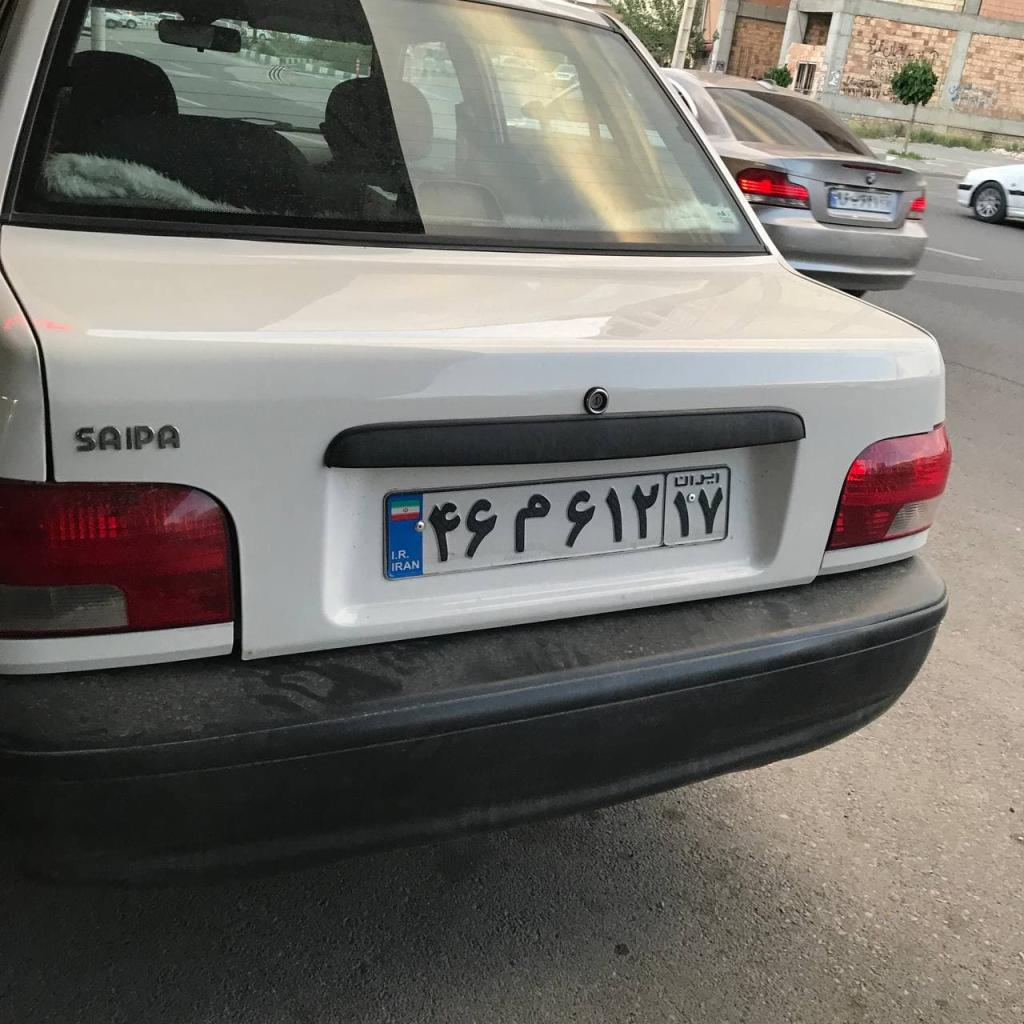Plates: (389, 466, 729, 578)
